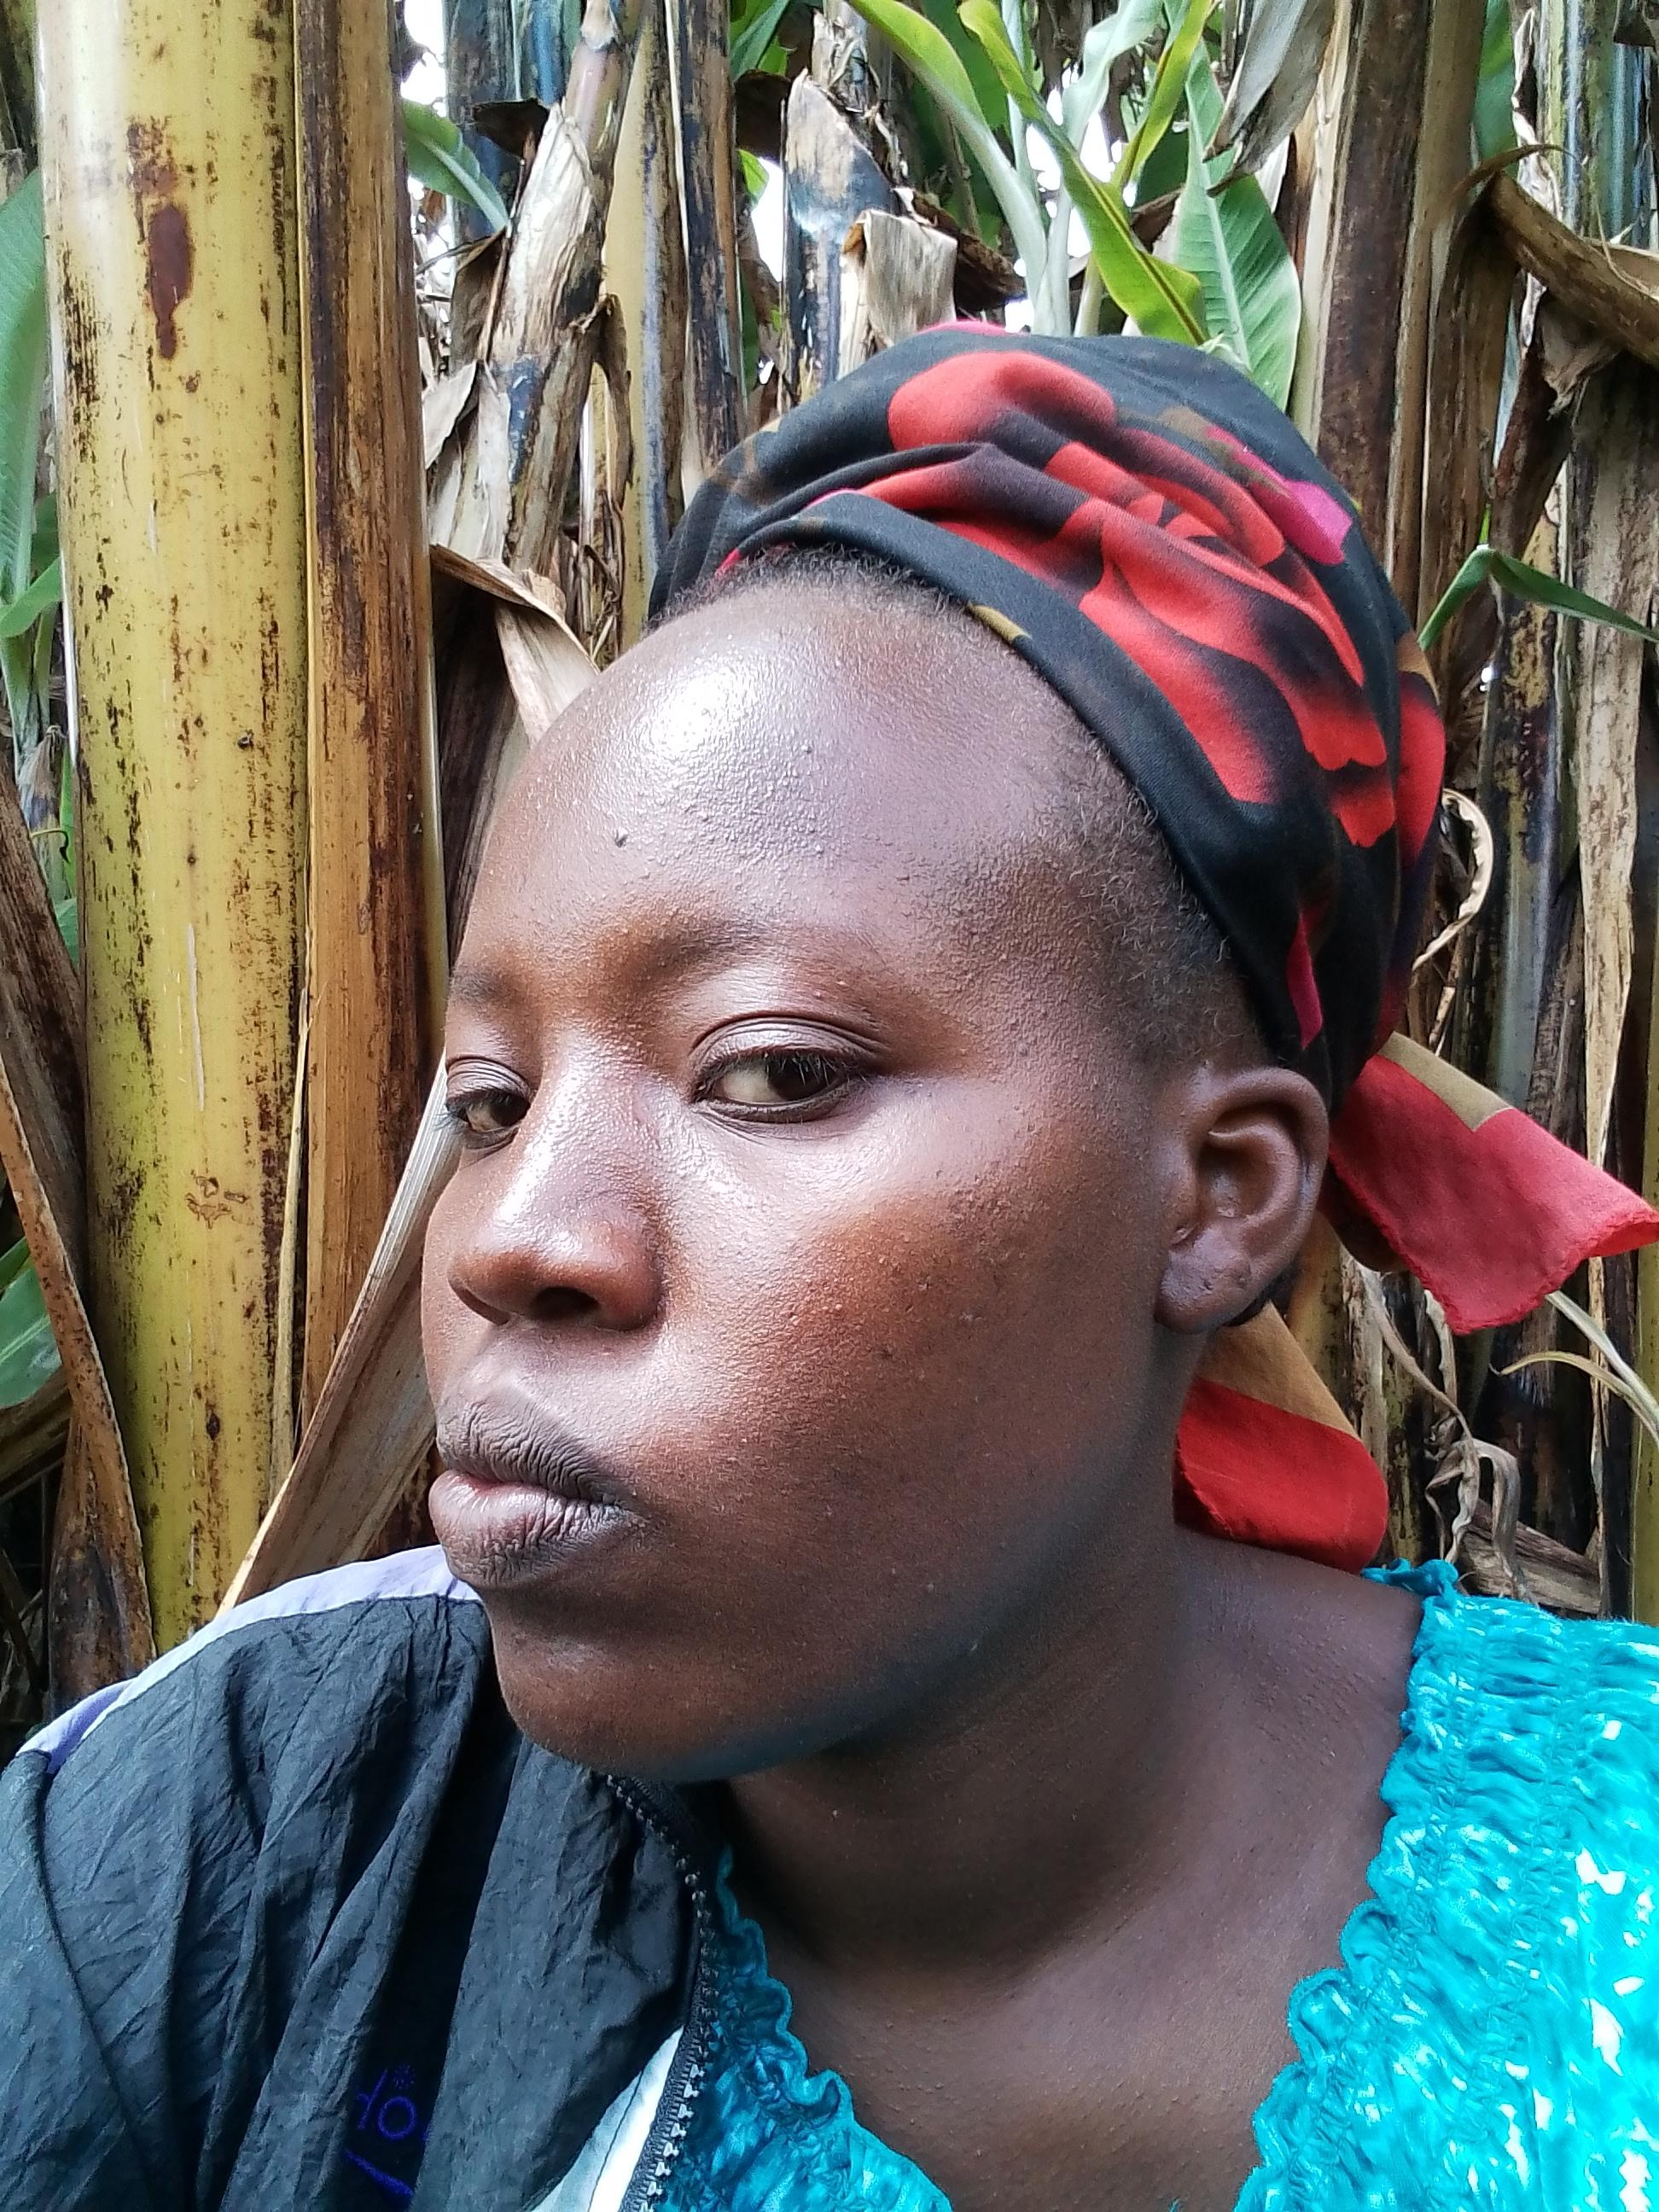Dry-Skin: (929, 852, 1058, 974), (699, 752, 826, 869)
Englarged-Pores: (870, 1230, 976, 1322)
